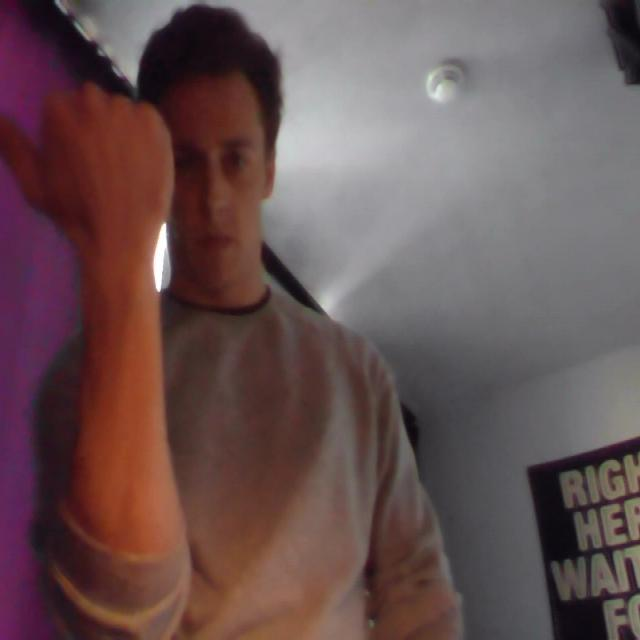left: (2, 70, 198, 266)
